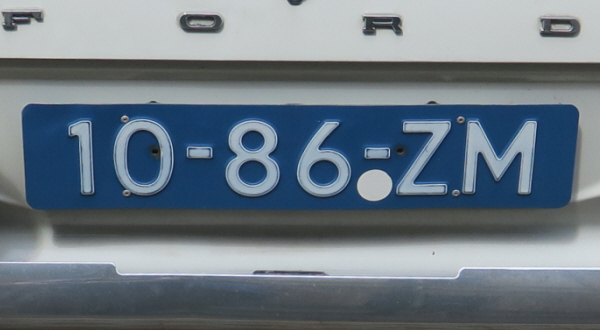license_plate: (22, 103, 581, 211)
